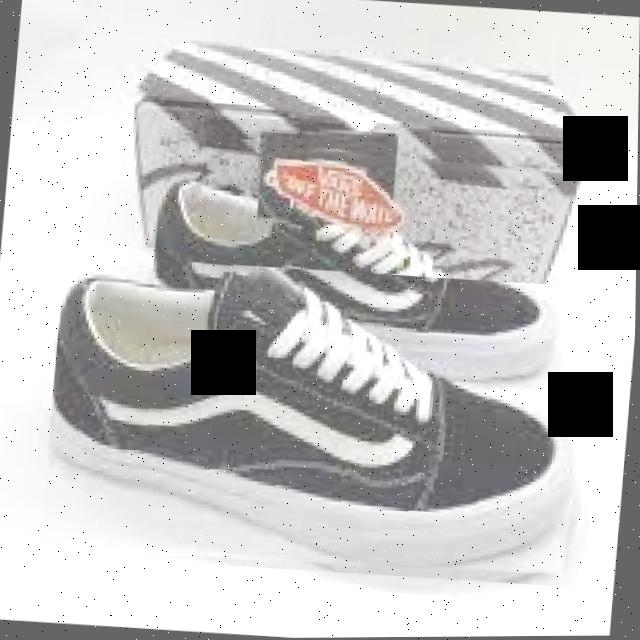shoe: (32, 116, 615, 591), (41, 251, 597, 587)
